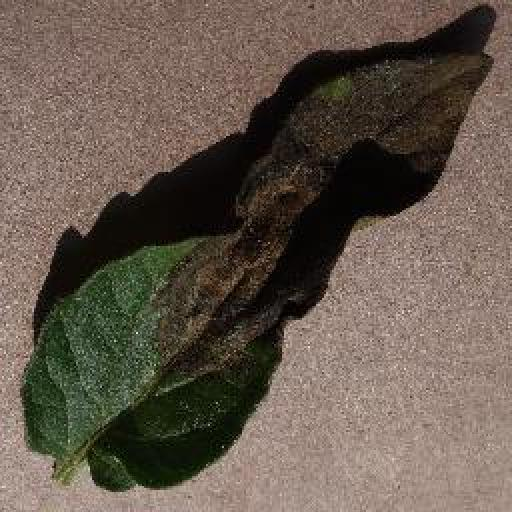disease_tomato: (19, 49, 493, 488)
